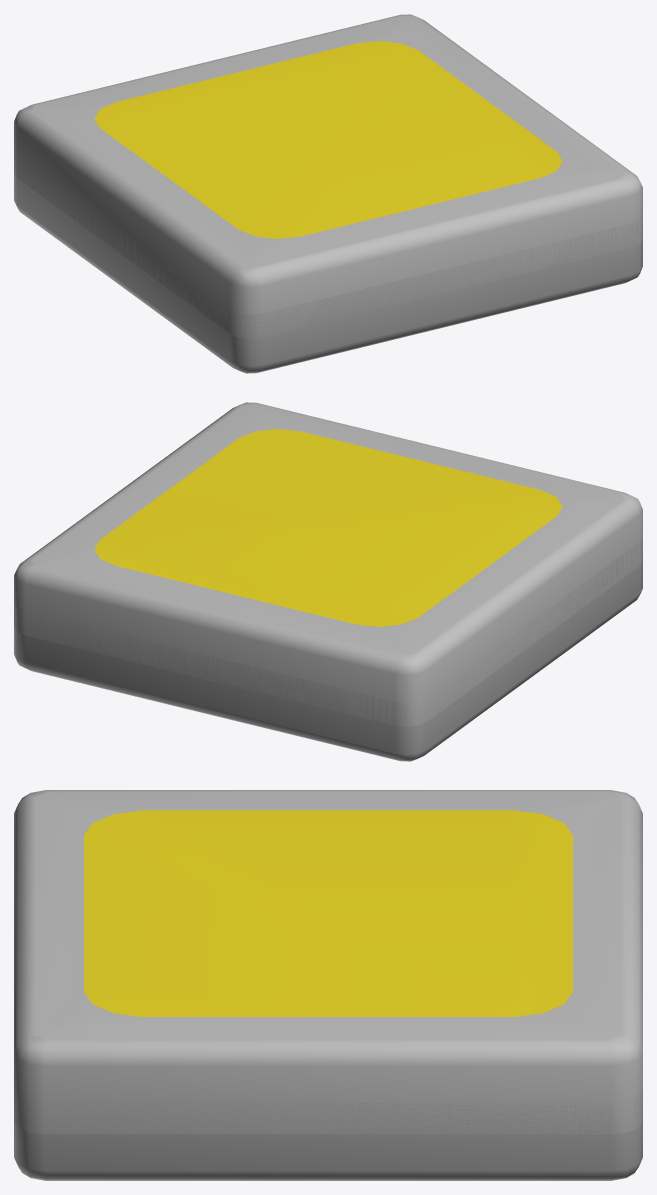
File: CubeBoiledEgg.fbx
3 views of the same model, one above another, from view 1: azimuth 30°, elevation 25°; view 2: azimuth 150°, elevation 25°; view 3: azimuth 270°, elevation 25° (orthographic). The views are drawn at different scales.
Parts seen in each view (by area): view 1: Watermelon; view 2: Watermelon; view 3: Watermelon.
Boxes of the visible parts, bbox=[...] form: Watermelon: bbox=[14, 14, 642, 373]; Watermelon: bbox=[14, 402, 642, 761]; Watermelon: bbox=[14, 790, 642, 1180].
Bounding box in the file's own units: 200 × 50.34 × 200.
